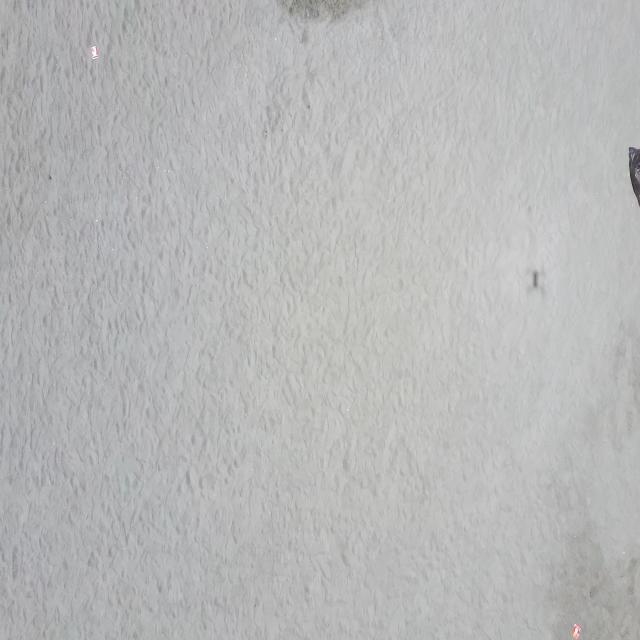retort-pouch: (571, 622, 582, 640), (90, 45, 98, 62)
